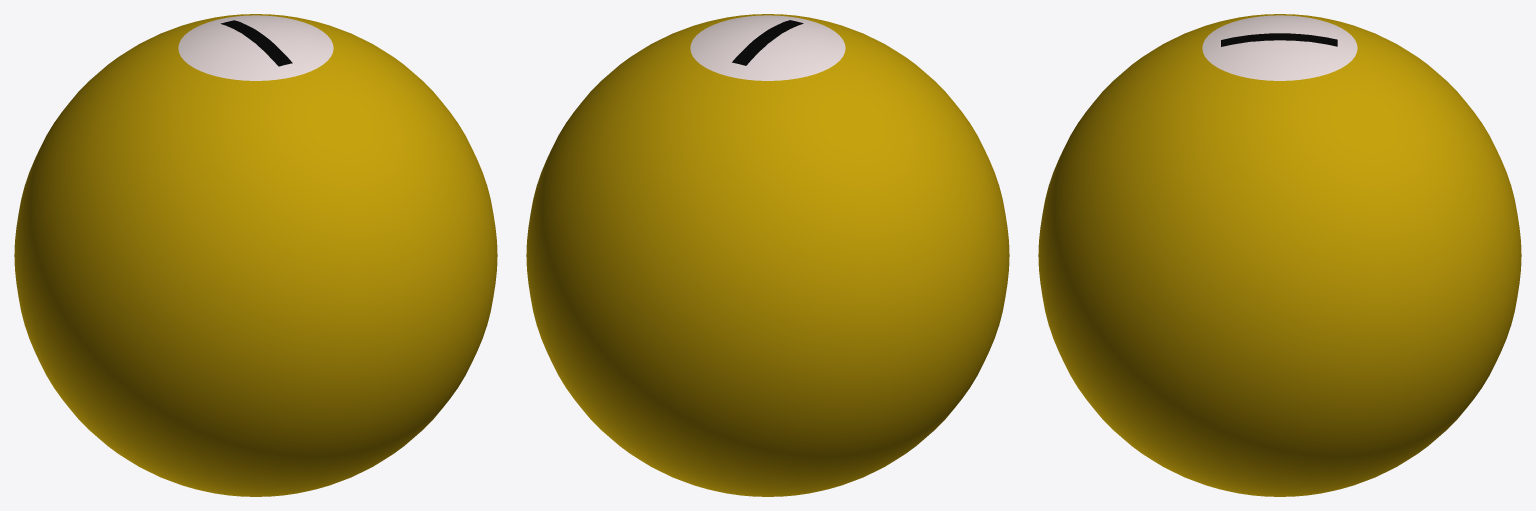
File: oneBall.glb
3 renders of one model, left to right at view 1: azimuth 30°, elevation 25°; view 2: azimuth 150°, elevation 25°; view 3: azimuth 270°, elevation 25°, orthographic.
Visible parts, largest first — view 1: Sphere; view 2: Sphere; view 3: Sphere.
Boxes of the visible parts, x1=… form: Sphere: x1=14, y1=14, x2=497, y2=496; Sphere: x1=526, y1=14, x2=1009, y2=496; Sphere: x1=1038, y1=14, x2=1521, y2=496.
Bounding box in the file's own units: 0.127 × 0.127 × 0.127.
